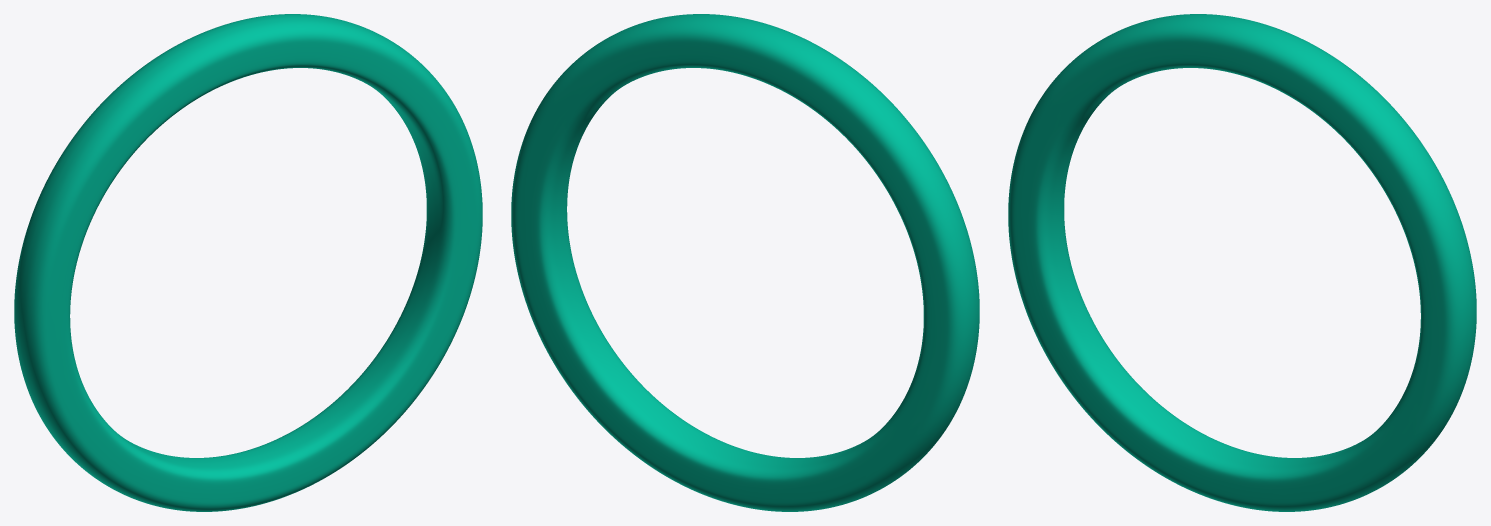
Rendered from BE2FM201_RENDER.glb.
The picture shows the model from 3 angles, left to right: view 1: azimuth 30°, elevation 25°; view 2: azimuth 150°, elevation 25°; view 3: azimuth 330°, elevation 25°; orthographic projection.
Visible parts, largest first — view 1: Metal03; view 2: Metal03; view 3: Metal03.
Boxes of the visible parts, bbox=[...] form: Metal03: bbox=[14, 14, 482, 511]; Metal03: bbox=[511, 14, 979, 511]; Metal03: bbox=[1008, 14, 1476, 511].
Size of the model in its own units: 20.3 by 20.3 by 2.
